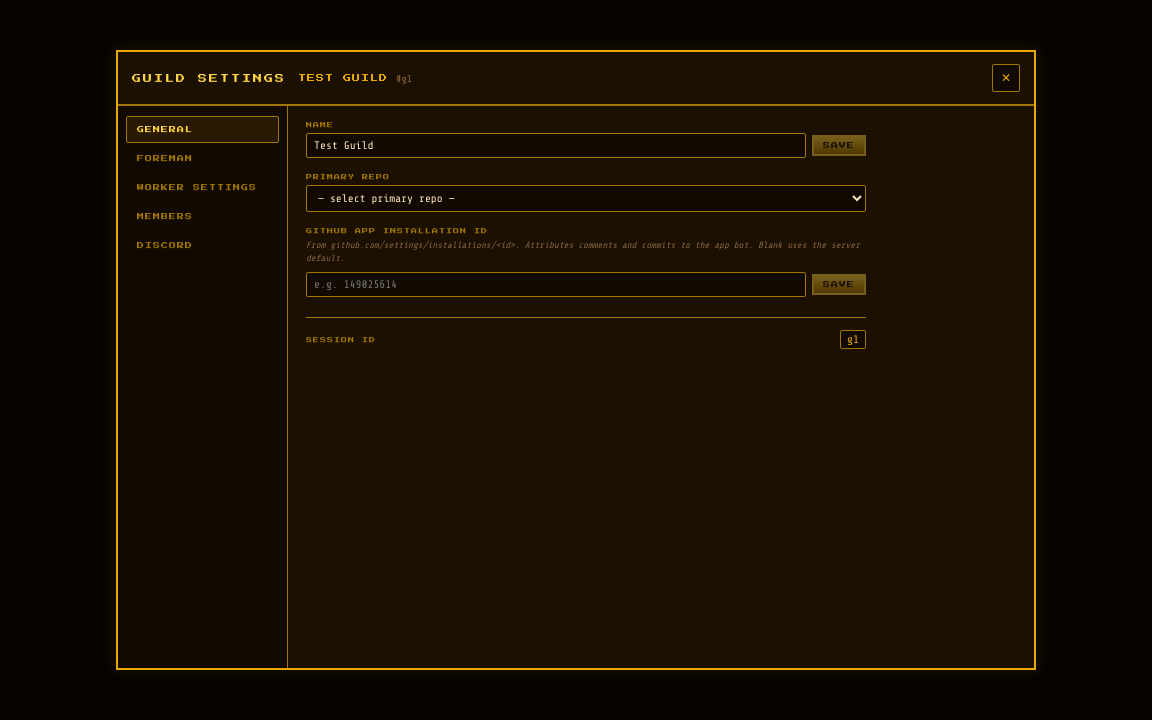
Test: GuildSettingsPanel partial-save reporting › names the failing half when the spawn-settings PUT fails
Click the button with class "settings-tab" showing "Foreman".
click(202, 158)  # box [126,145,279,172]
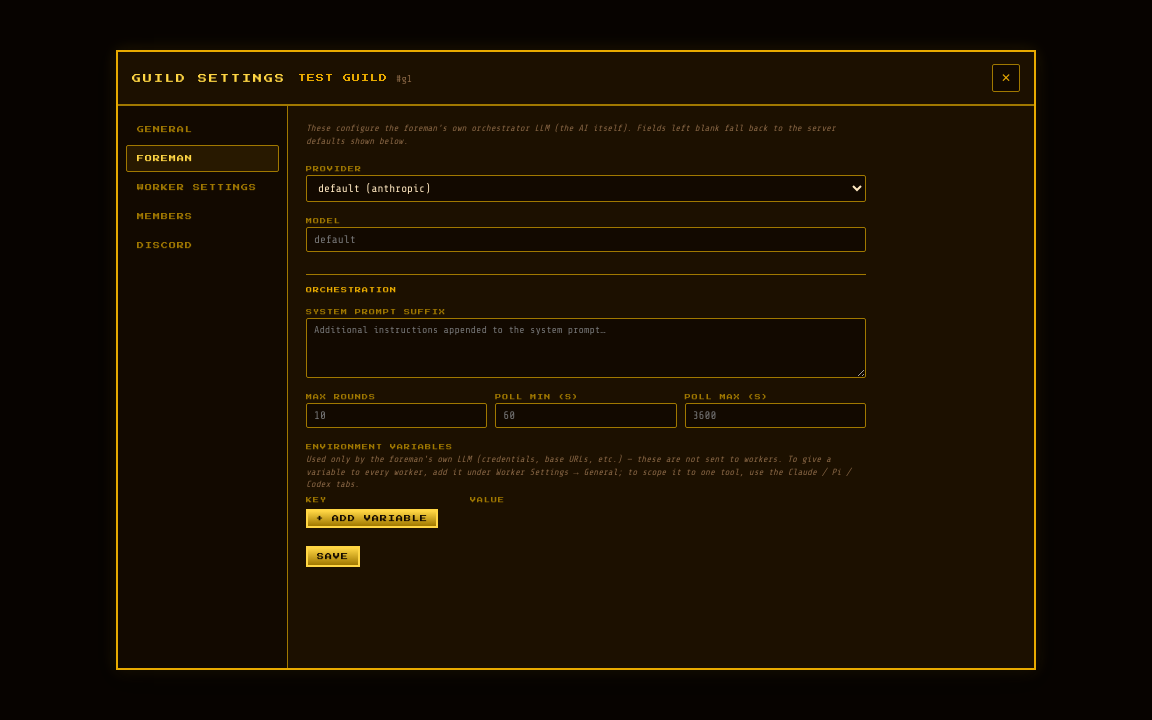
Click the button with class "settings-save-btn".
click(333, 556)  # box [306,546,360,567]
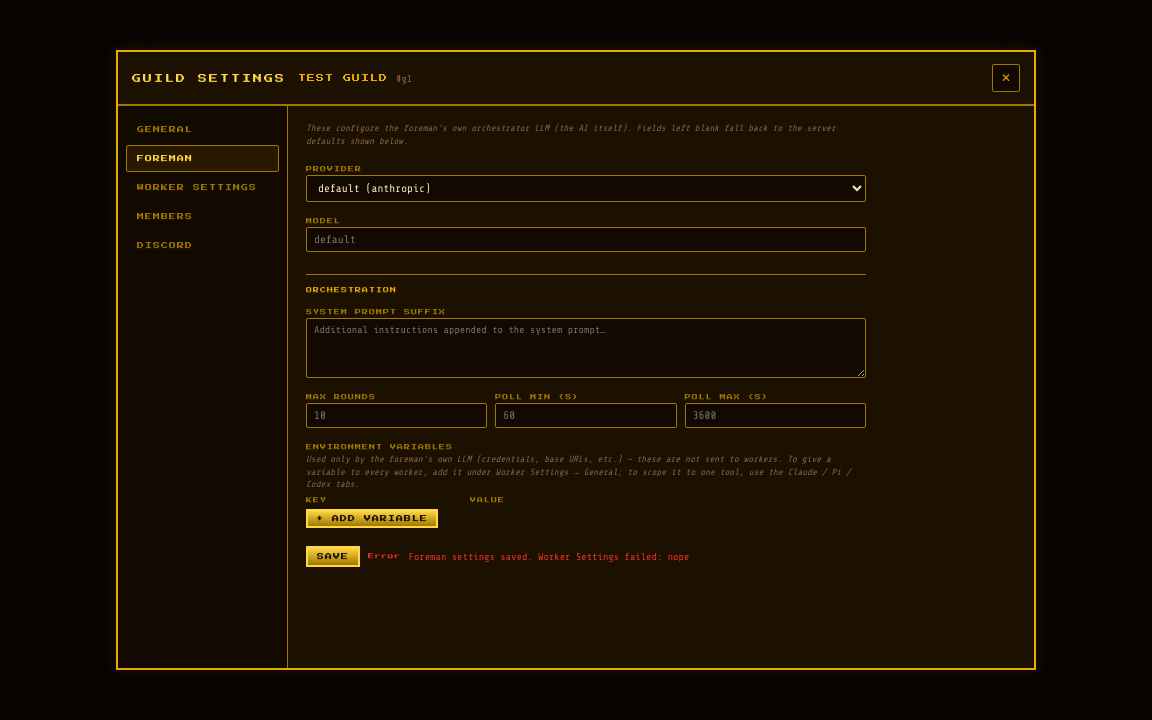
Expected: the text with class "save-detail" shows "Worker Settings failed", [408,551,689,562]
Expected: the text with class "save-detail" shows "nope", [408,551,689,562]
